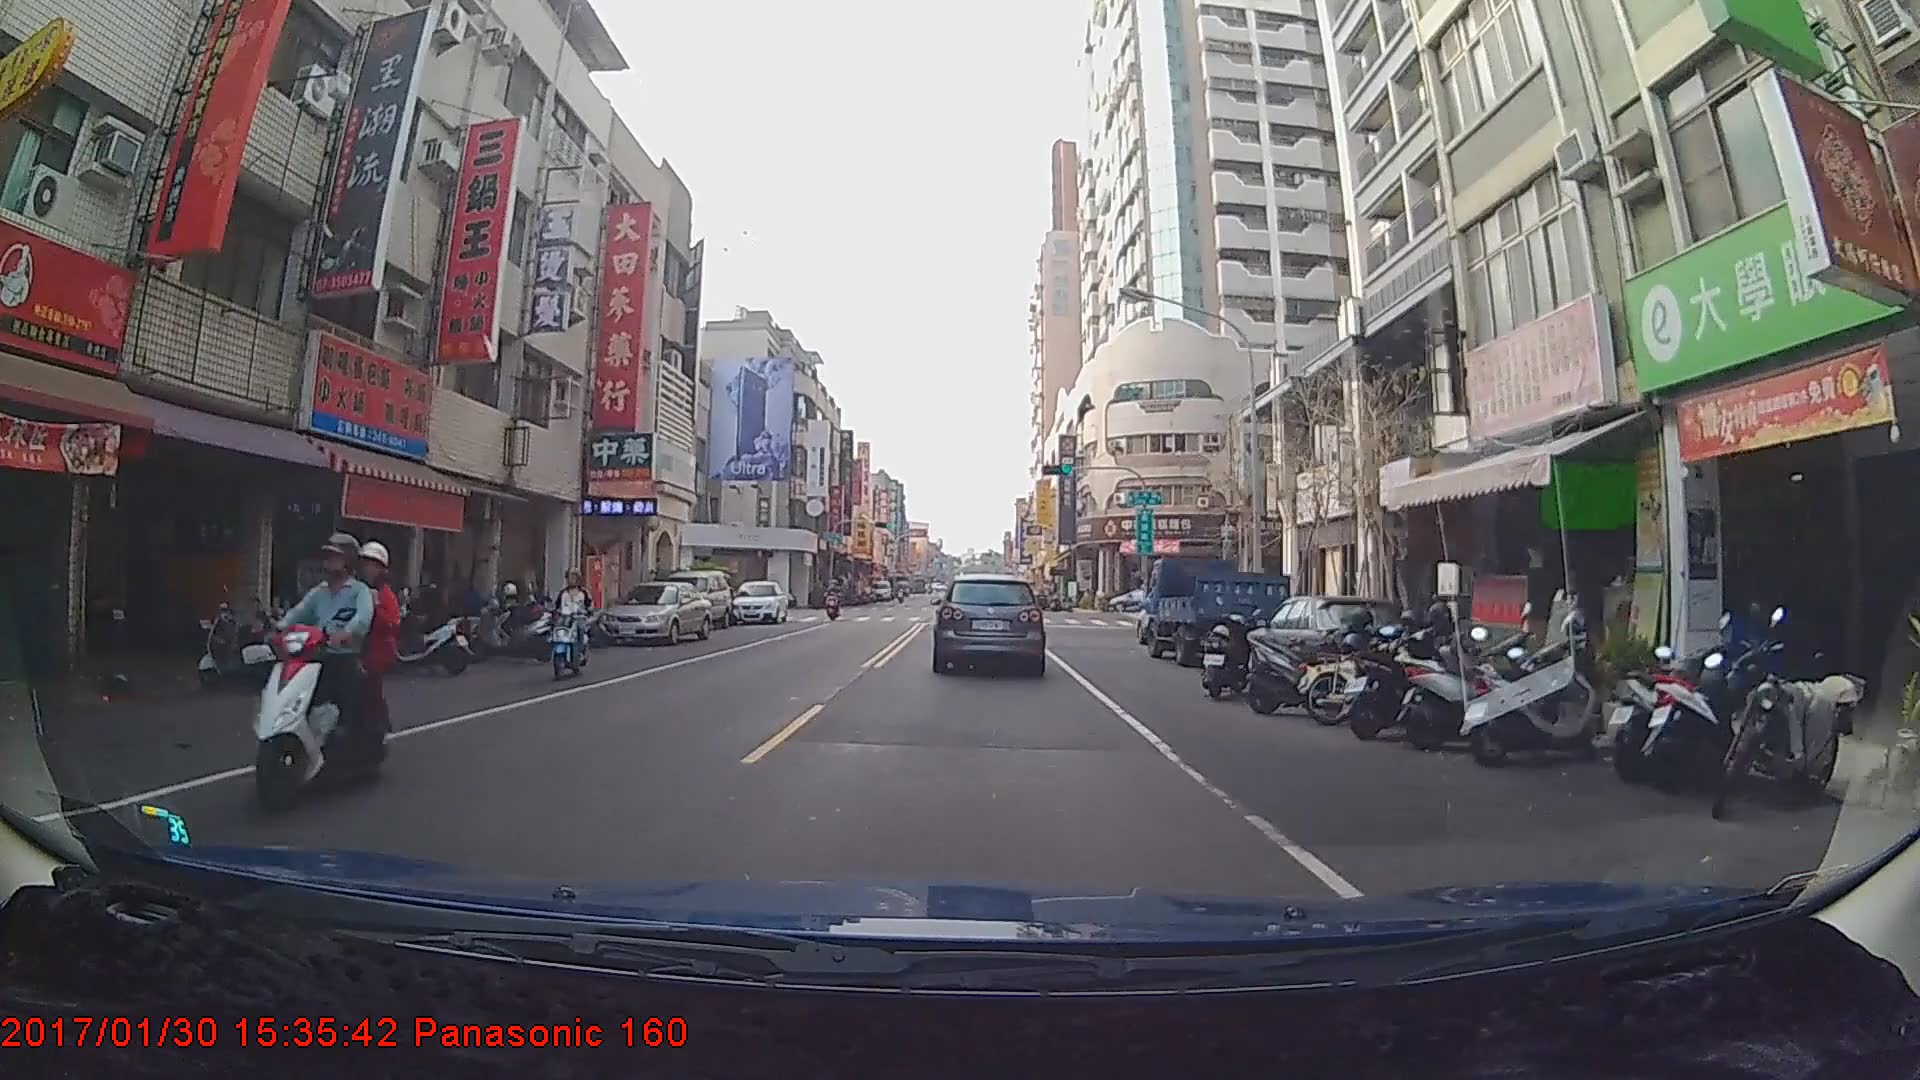rider: (231, 532, 392, 805), (550, 568, 600, 681), (824, 581, 844, 626)
vehicle: (1142, 551, 1292, 667), (933, 572, 1045, 674), (595, 579, 713, 644), (658, 565, 735, 630), (730, 578, 788, 626)
